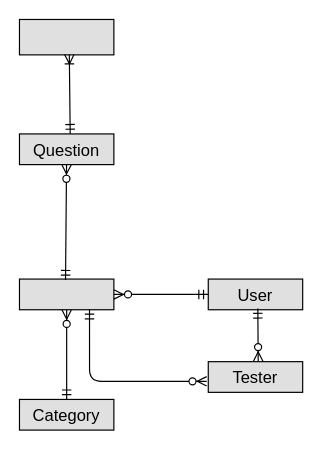
This 322x450 diagram has some shape labels left out. Here are the shapes that lost their labels. From the top down, the box of each, then its label:
(18, 18, 114, 55): Answer
(18, 278, 114, 310): Test
